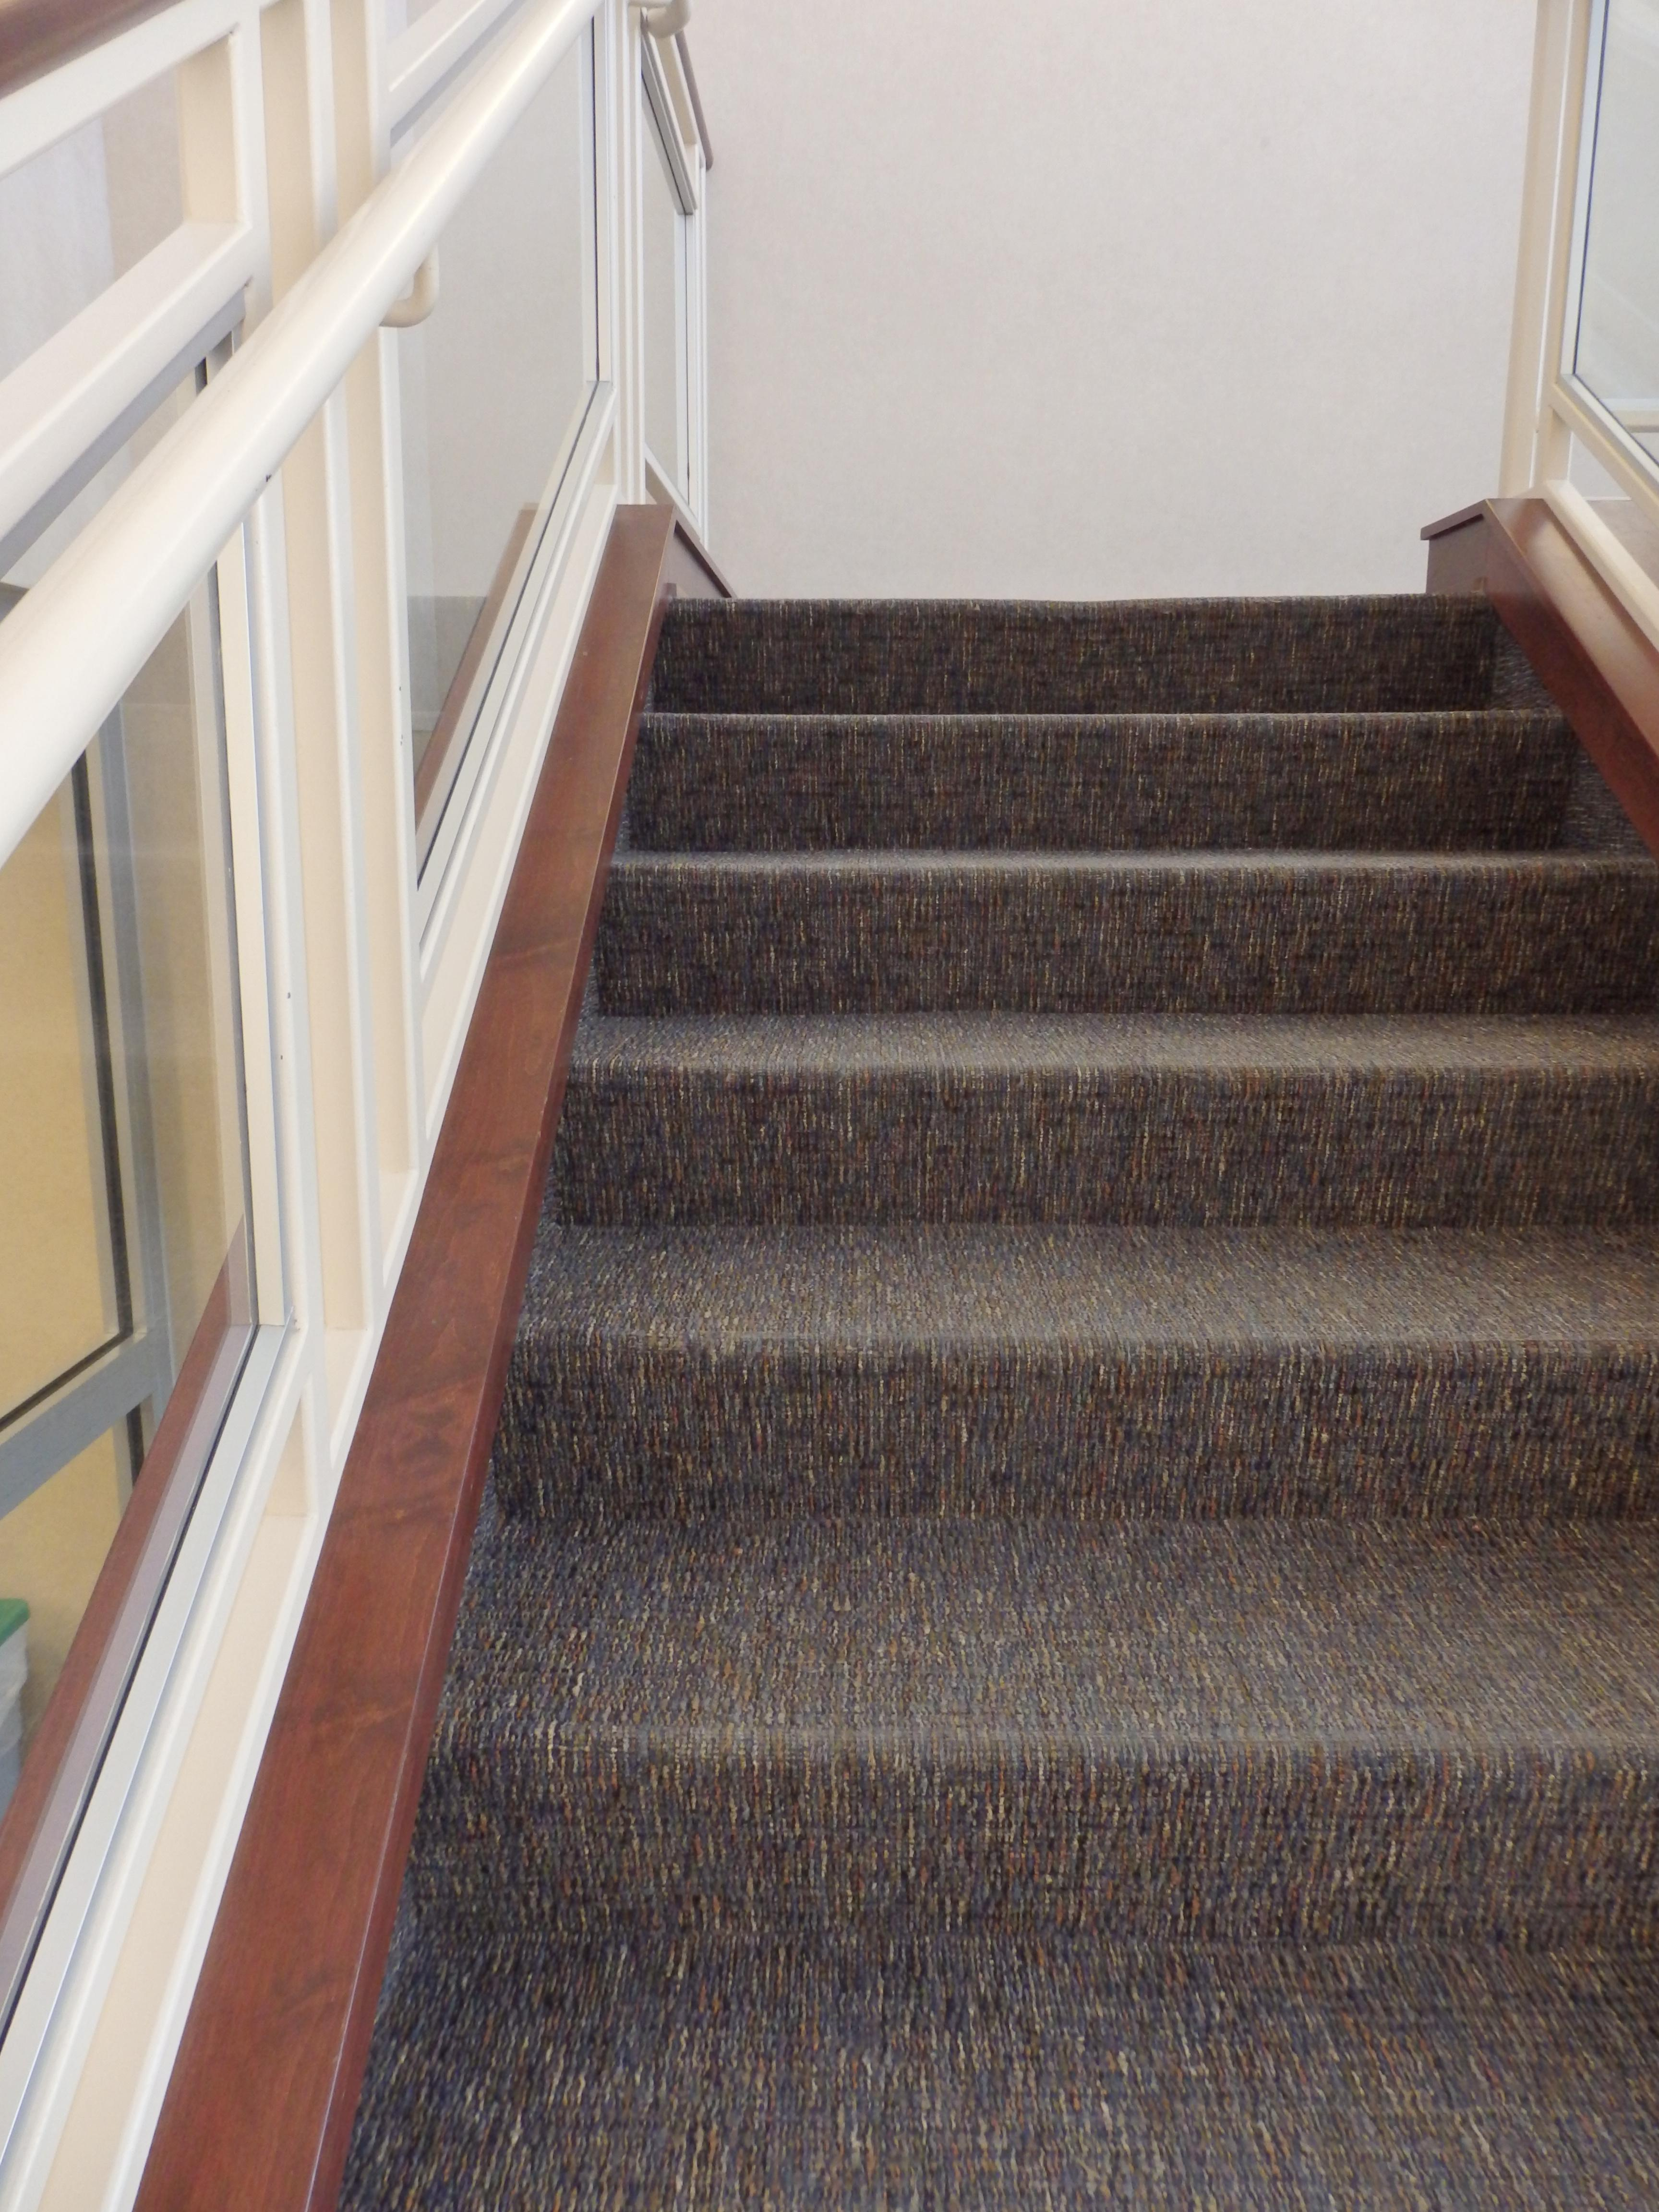stairs_up: (500, 578, 1659, 1797)
